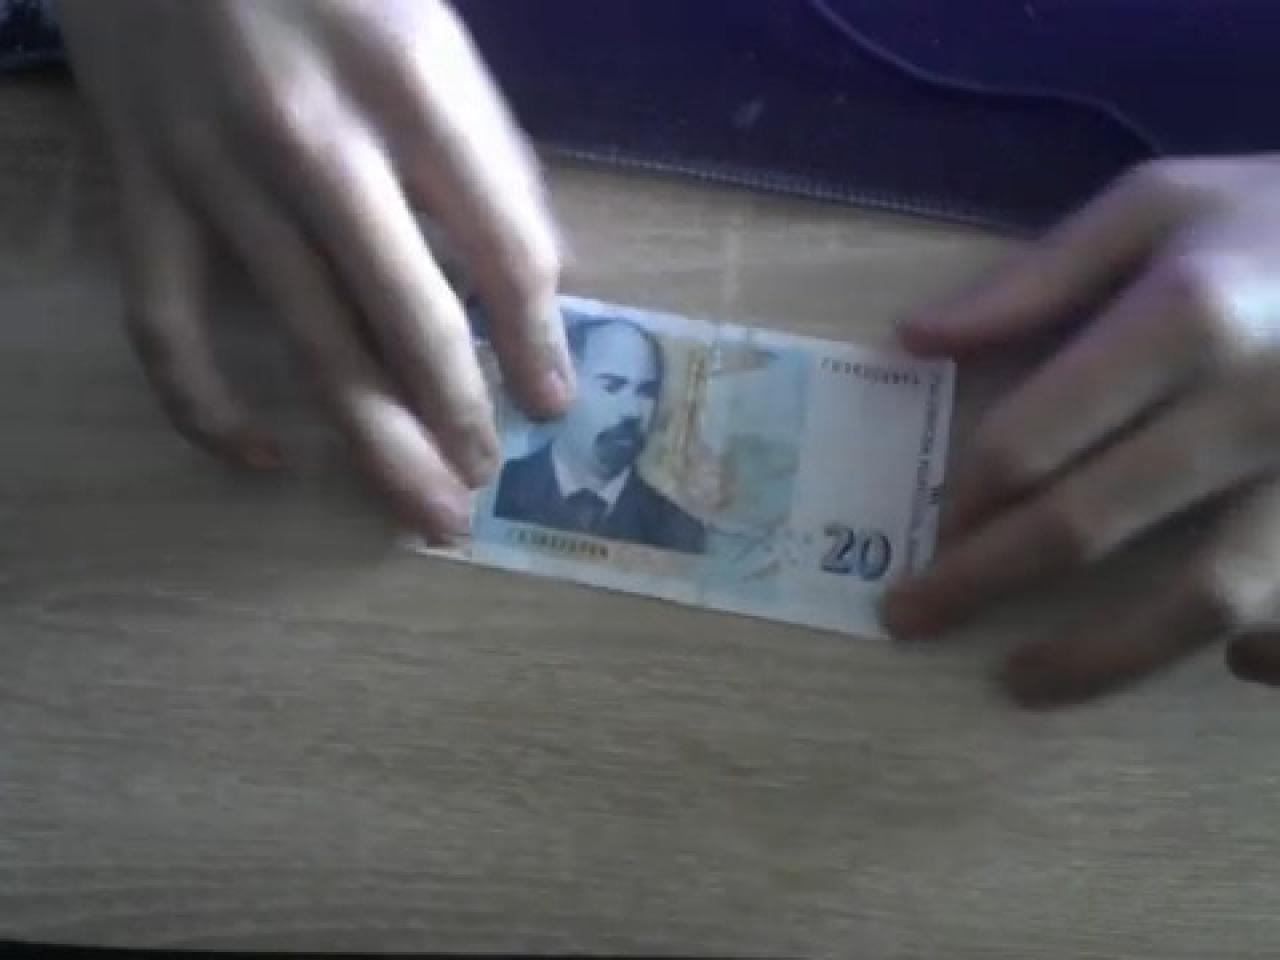20leva: (504, 302, 677, 536)
